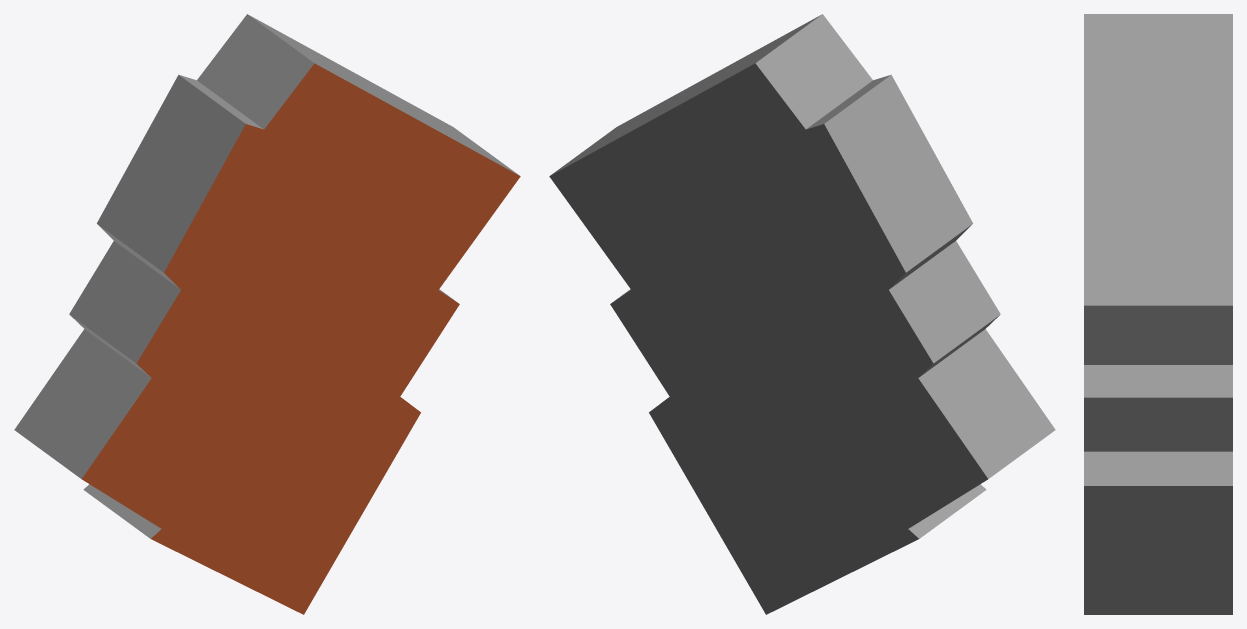
Rendered from construction_6989_assumed_A_Casa_h6m.obj.
3 views of the same model, side by side, from view 1: azimuth 30°, elevation 25°; view 2: azimuth 150°, elevation 25°; view 3: azimuth 270°, elevation 25° (orthographic). The views are drawn at different scales.
Parts seen in each view (by area): view 1: construction_6989_assumed_A_Casa; view 2: construction_6989_assumed_A_Casa; view 3: construction_6989_assumed_A_Casa.
Part boxes in pixels (x1,y1,x2,y2): construction_6989_assumed_A_Casa: (14,14,520,614); construction_6989_assumed_A_Casa: (549,14,1055,614); construction_6989_assumed_A_Casa: (1084,14,1232,614).
Size of the model in its own units: 22.6 by 27 by 6.
